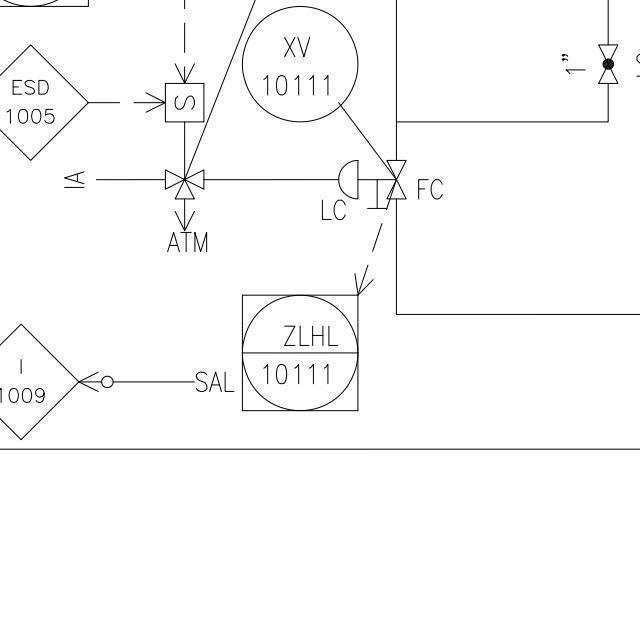3W: (157, 163, 216, 204)
BV2: (592, 40, 625, 88)
FC: (331, 153, 413, 205)
SV: (159, 78, 217, 188)
